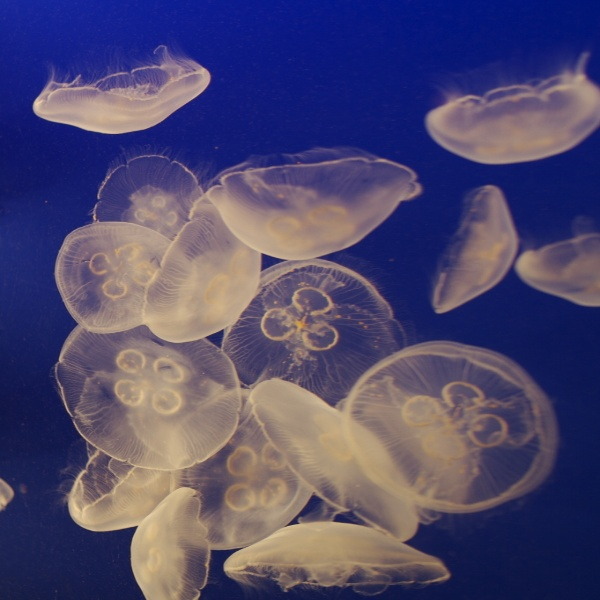Jellyfish: (46, 145, 599, 599), (175, 144, 426, 265), (27, 40, 211, 135), (416, 70, 599, 165)
